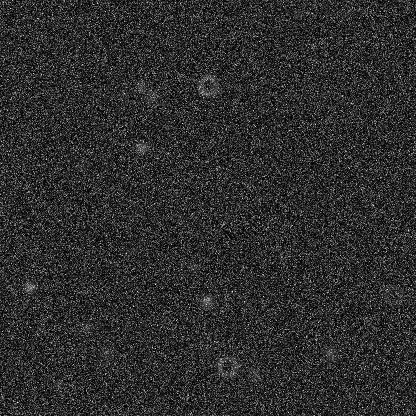Ring: (196, 74, 220, 98), (215, 354, 239, 378), (380, 282, 404, 306)
Spot: (198, 293, 214, 309), (49, 376, 65, 392), (133, 139, 149, 155), (21, 279, 37, 295), (321, 345, 337, 361), (185, 259, 201, 275), (246, 366, 262, 382), (73, 158, 89, 174), (132, 78, 148, 94), (142, 89, 158, 105), (78, 320, 94, 336), (97, 344, 113, 360)
